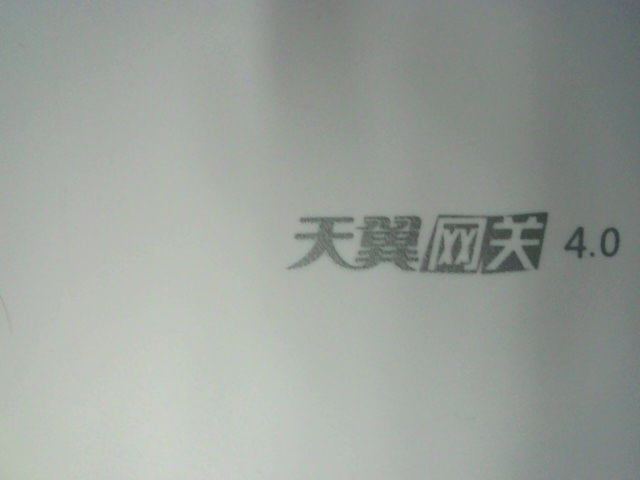BM_TianYiWangGuan: (286, 205, 623, 284)
